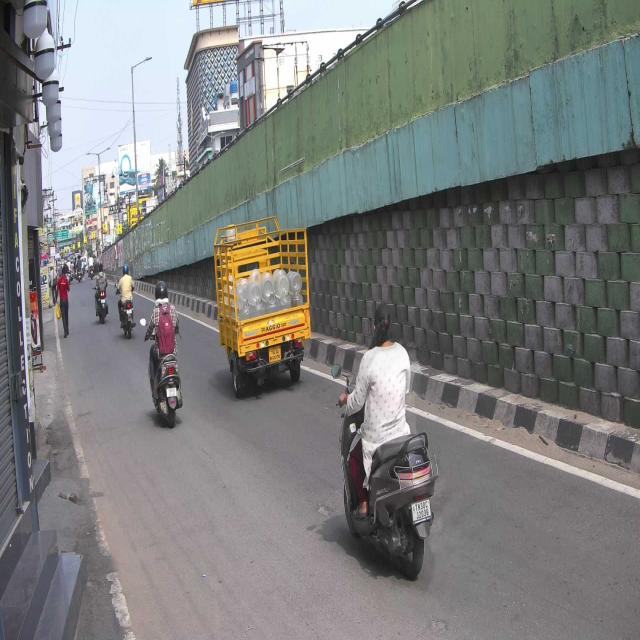single_rider: (332, 293, 441, 578)
